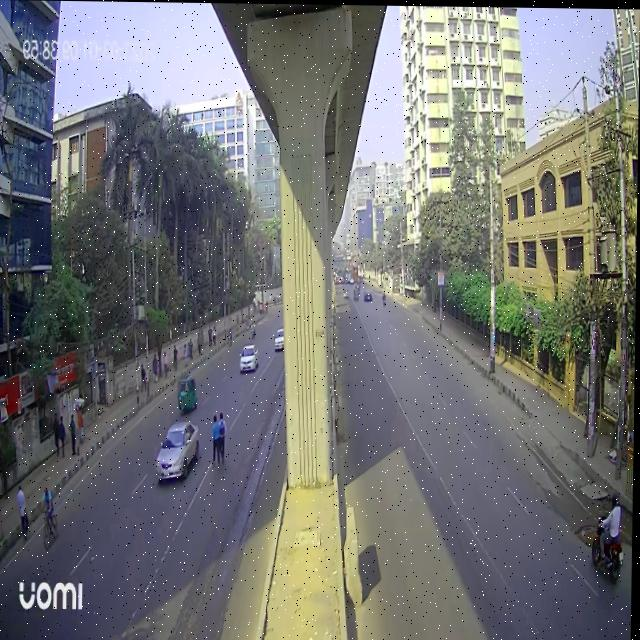cng: (173, 365, 199, 419)
